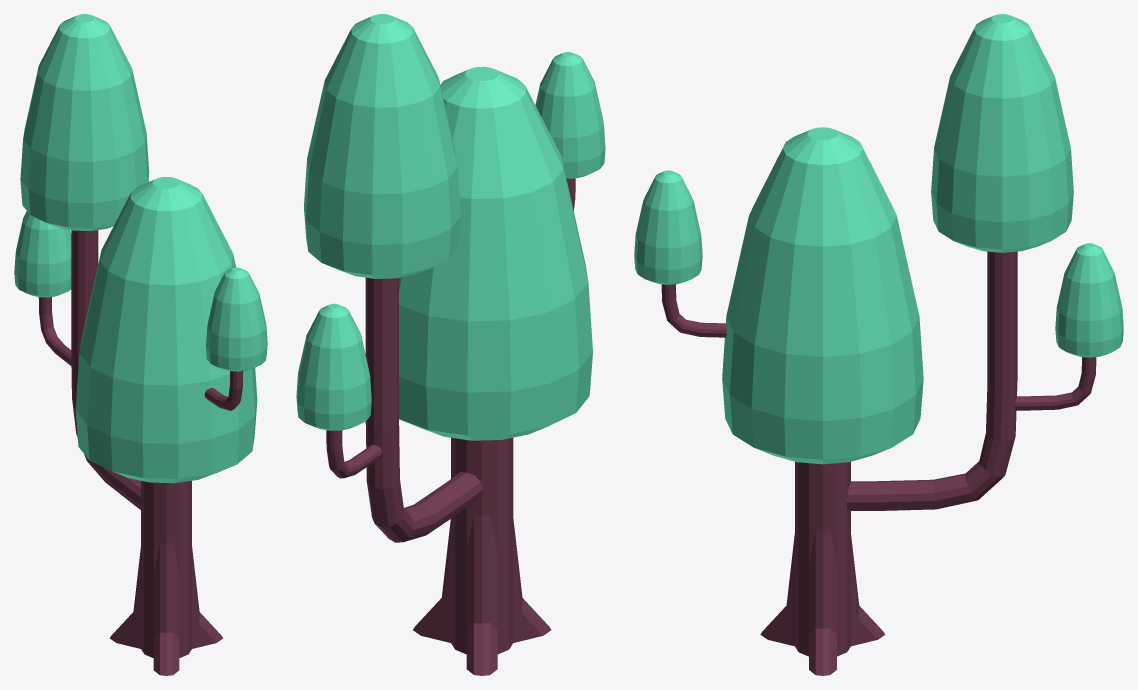
The model's file is tree3.fbx.
3 views of the same model, side by side, from view 1: azimuth 30°, elevation 25°; view 2: azimuth 150°, elevation 25°; view 3: azimuth 270°, elevation 25° (orthographic). The views are drawn at different scales.
Visible parts, largest first — view 1: Sphere, Sphere.001, Cylinder.001, Sphere.003, Sphere.002, Cylinder, Cylinder.002, Cylinder.003; view 2: Sphere, Sphere.001, Cylinder.001, Cylinder, Sphere.002, Sphere.003, Cylinder.002; view 3: Sphere, Sphere.001, Cylinder.001, Cylinder, Sphere.003, Sphere.002, Cylinder.002, Cylinder.003.
Boxes of the visible parts, x1,y1,x2,y2 form: Sphere: (75,177,257,483); Sphere.001: (20,14,149,230); Cylinder.001: (109,480,223,675); Sphere.003: (206,267,267,371); Sphere.002: (14,211,71,297); Cylinder: (71,230,140,509); Cylinder.002: (38,297,71,365); Cylinder.003: (204,371,243,410); Sphere: (399,66,592,440); Sphere.001: (304,14,460,278); Cylinder.001: (413,437,551,675); Cylinder: (365,277,483,542); Sphere.002: (296,303,371,430); Sphere.003: (535,52,605,178); Cylinder.002: (326,430,382,478); Sphere: (722,127,923,464); Sphere.001: (931,14,1073,252); Cylinder.001: (760,462,885,675); Cylinder: (846,251,1017,510); Sphere.003: (634,170,702,284); Sphere.002: (1055,243,1123,357); Cylinder.002: (1015,357,1096,410); Cylinder.003: (661,284,726,337).
Bounding box in the file's own units: 720 × 2474 × 1749.
